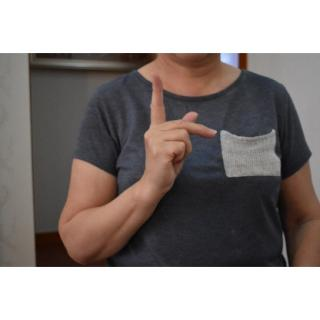DHAA: (132, 71, 221, 204)
